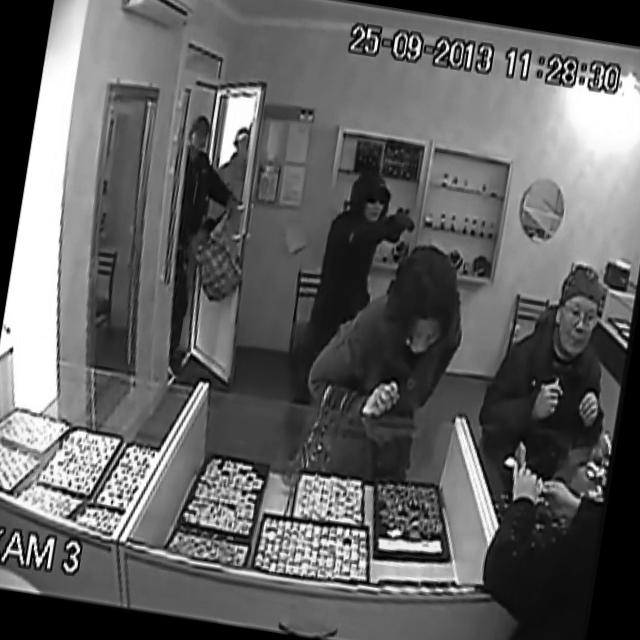gun: (370, 194, 420, 252)
person: (331, 226, 458, 486), (484, 243, 630, 462), (148, 110, 248, 300)
person with a gun: (304, 164, 422, 342)
